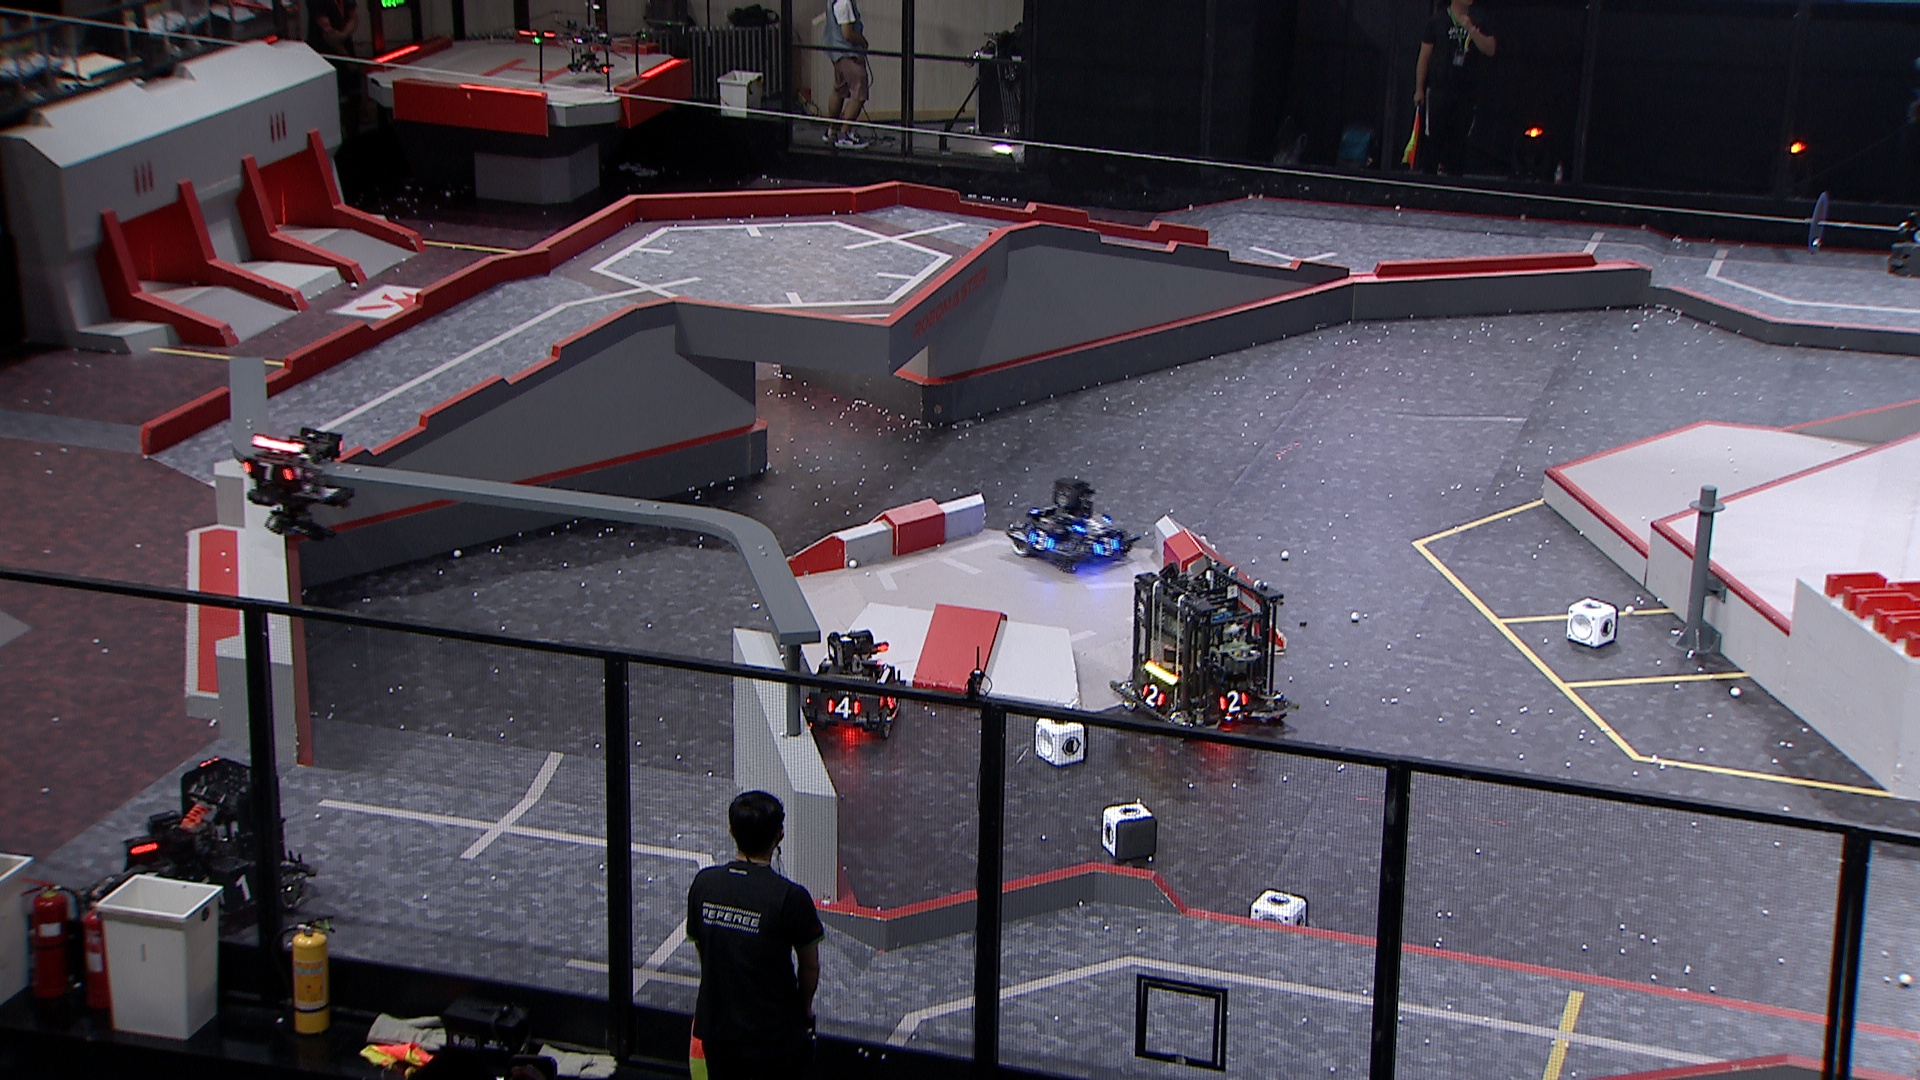armor: (243, 460, 295, 484), (216, 876, 257, 906), (825, 695, 864, 719), (1216, 690, 1249, 713), (1141, 683, 1168, 711), (1069, 518, 1112, 534), (1030, 529, 1055, 553), (1092, 537, 1120, 556)
car: (84, 752, 315, 945), (1110, 556, 1300, 742), (1005, 479, 1143, 574), (798, 628, 907, 738)
watcher: (240, 427, 356, 543)
